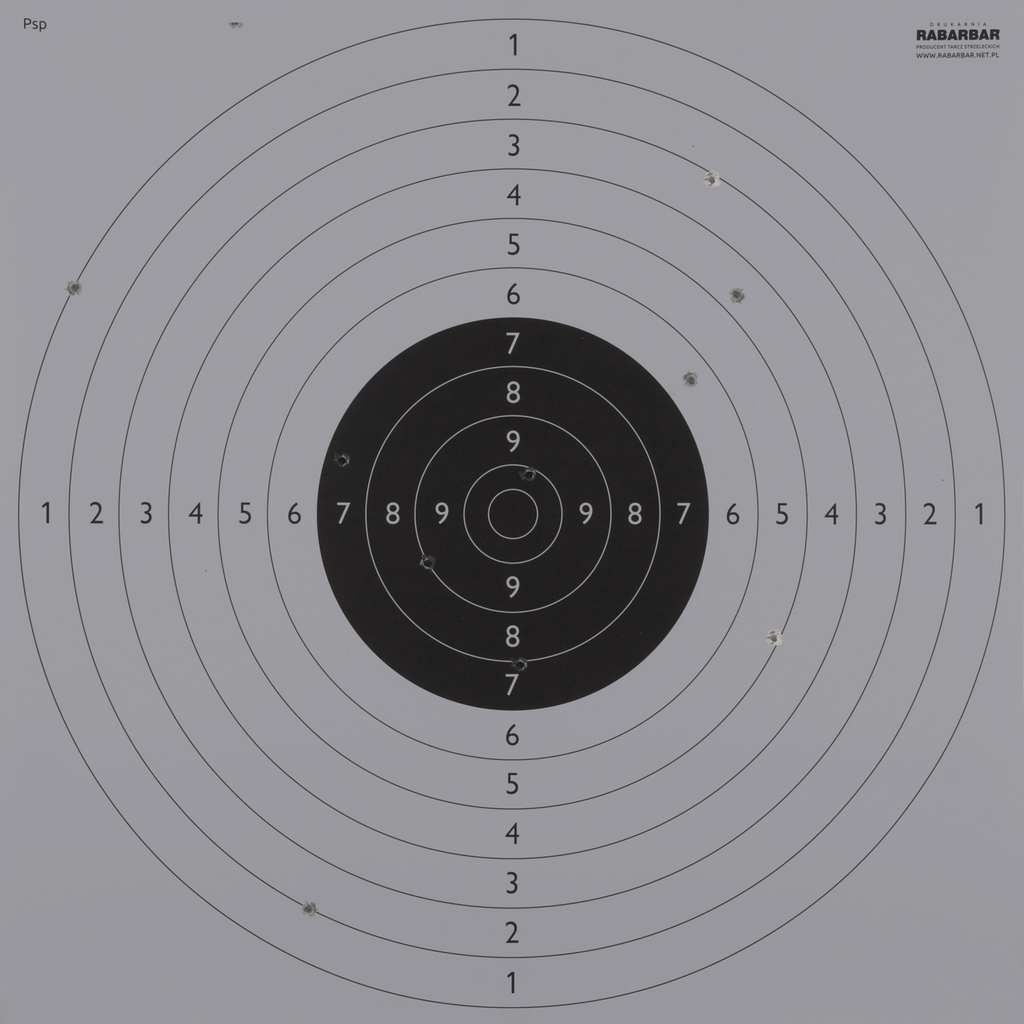0 punktow: (226, 12, 245, 31)
1 punkt: (66, 279, 84, 297)
10 punktow: (520, 465, 538, 484)
2 punkty: (300, 900, 318, 918)
3 punkty: (703, 171, 721, 189)
4 punkty: (727, 286, 746, 304)
5 punktow: (765, 629, 783, 648)
6 punktow: (682, 371, 700, 389)
7 punktow: (333, 451, 351, 470)
8 punktow: (511, 655, 529, 674)
9 punktow: (418, 554, 437, 573)
